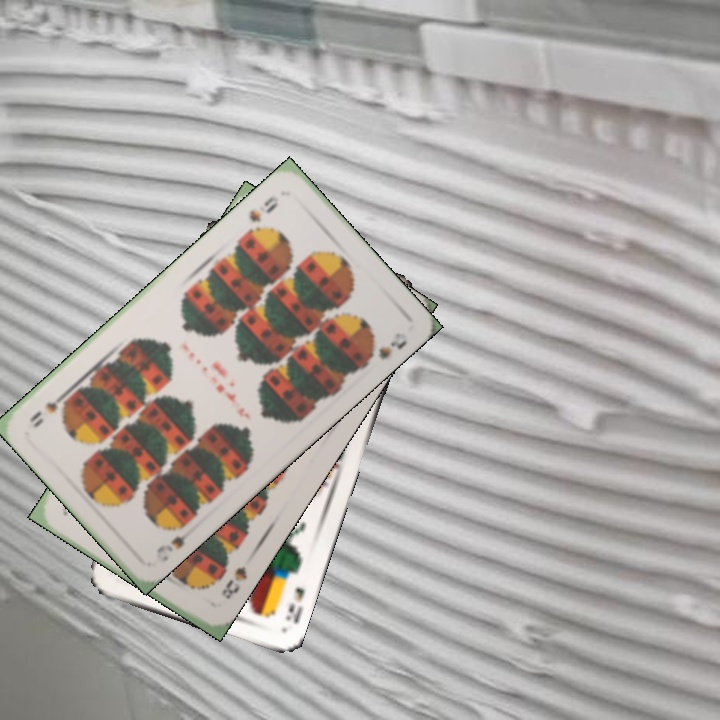EK: (281, 583, 308, 627)
S8: (217, 562, 250, 602)
S9: (152, 517, 198, 565), (244, 192, 282, 225)
